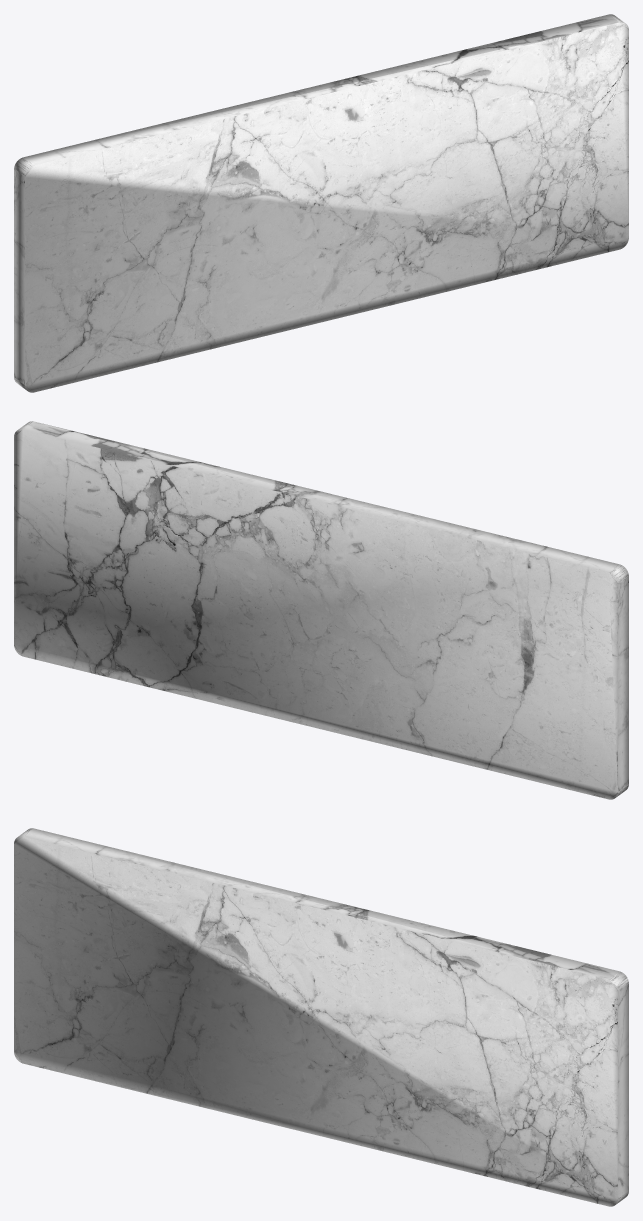
The model's file is MarbleCountertopTop.obj.
The picture shows the model from 3 angles, top to bottom: view 1: azimuth 30°, elevation 25°; view 2: azimuth 150°, elevation 25°; view 3: azimuth 330°, elevation 25°; orthographic projection.
Parts seen in each view (by area): view 1: MarbleCountertop; view 2: MarbleCountertop; view 3: MarbleCountertop.
Part boxes in pixels (bbox=[...]): MarbleCountertop: bbox=[14, 14, 628, 392]; MarbleCountertop: bbox=[14, 421, 628, 799]; MarbleCountertop: bbox=[14, 828, 628, 1206].
Bounding box in the file's own units: 1.63 × 0.5842 × 0.0508.
1 material, 1 textured.
